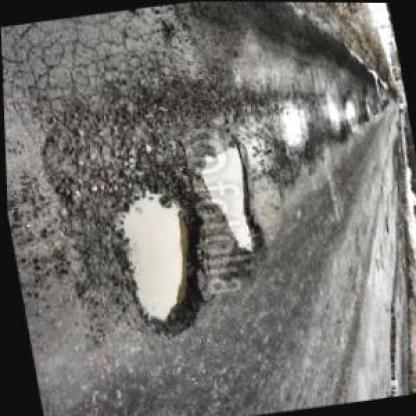pothole: (102, 169, 222, 340), (191, 138, 268, 264), (272, 97, 313, 148), (323, 95, 345, 134), (342, 97, 361, 129)
